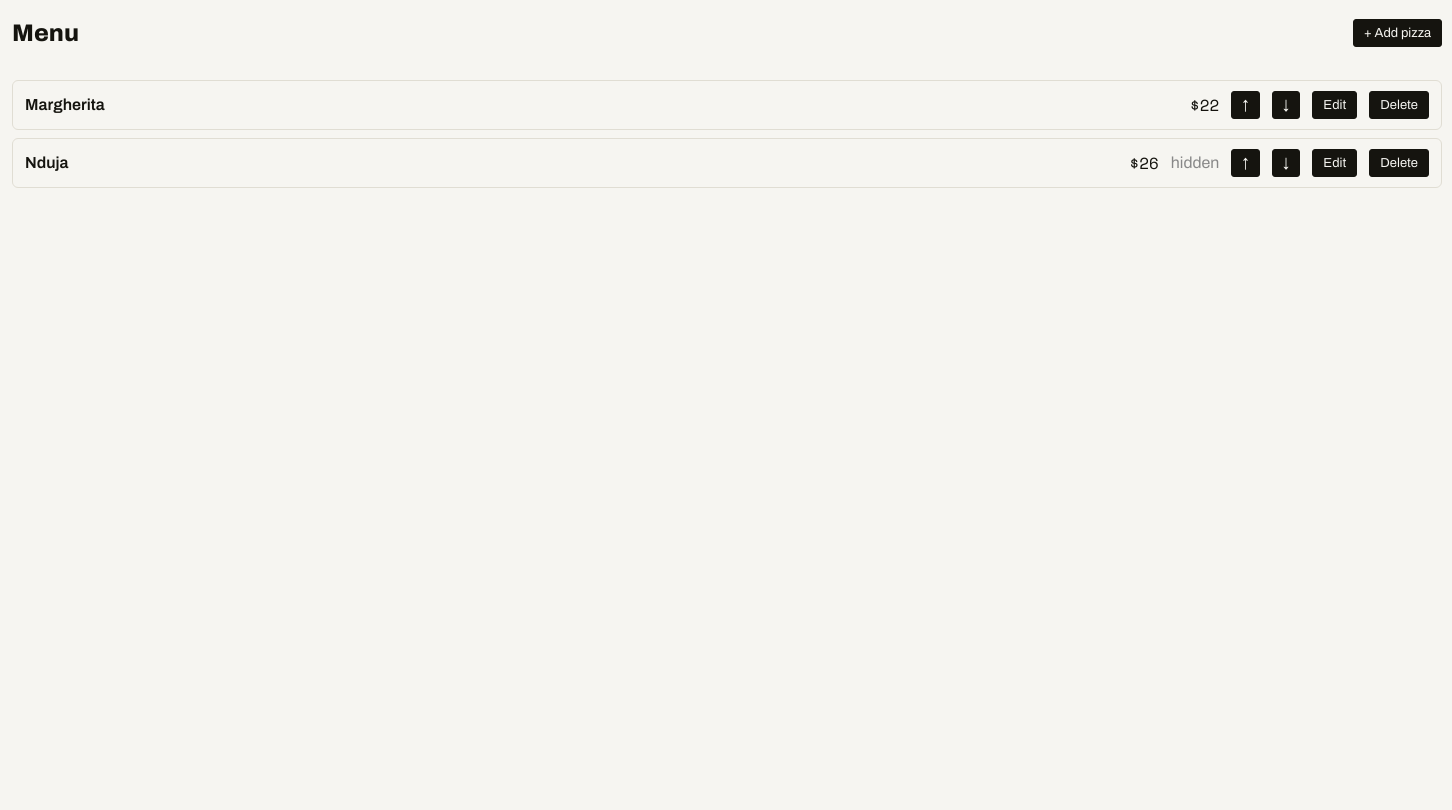
Scenario: MenuManager › opens the add form and creates a new item
Click the button "+ Add pizza" at (1397, 33), box [1353, 19, 1442, 47]
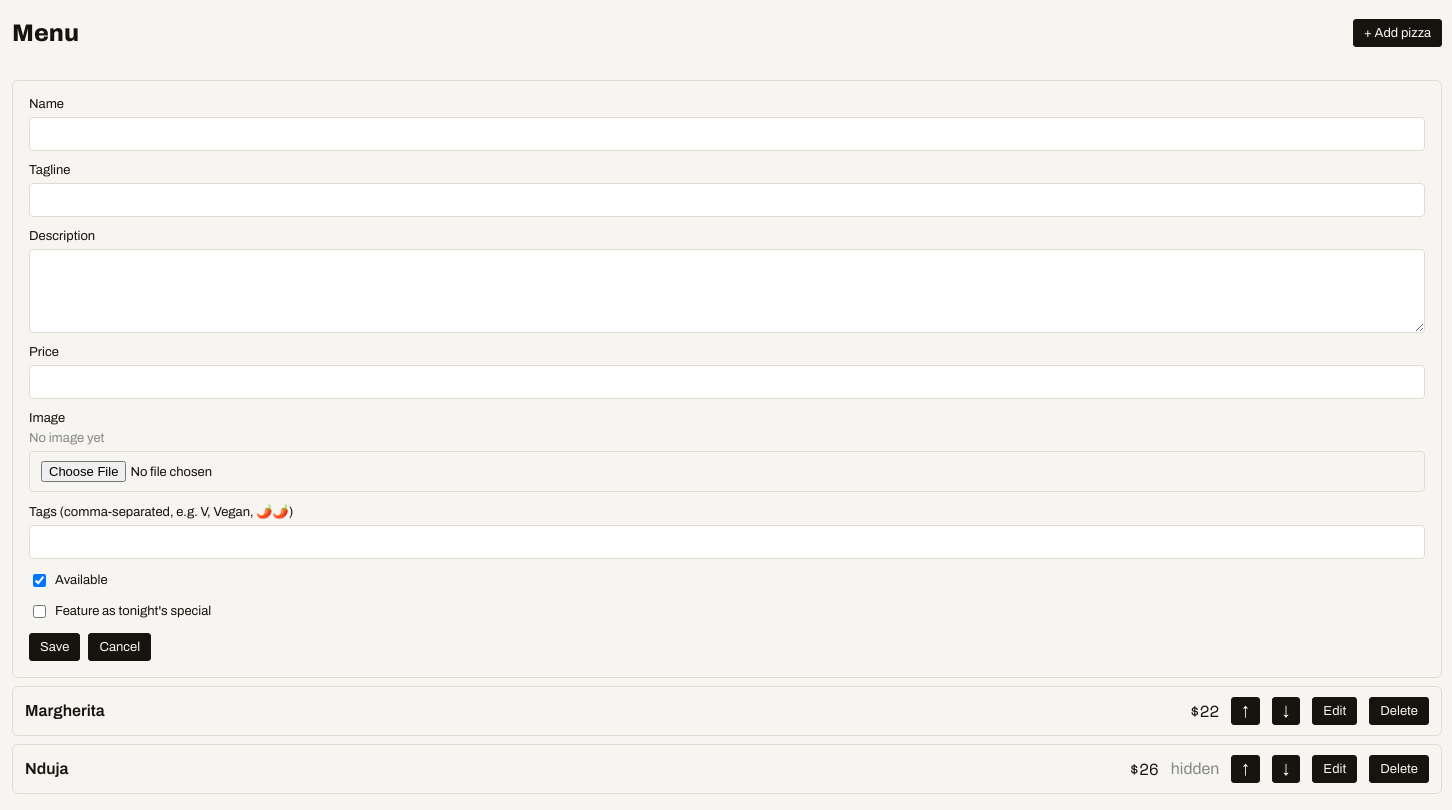
Type "Capricciosa" into the field labelled "Name" at (727, 134), box [29, 117, 1425, 151]
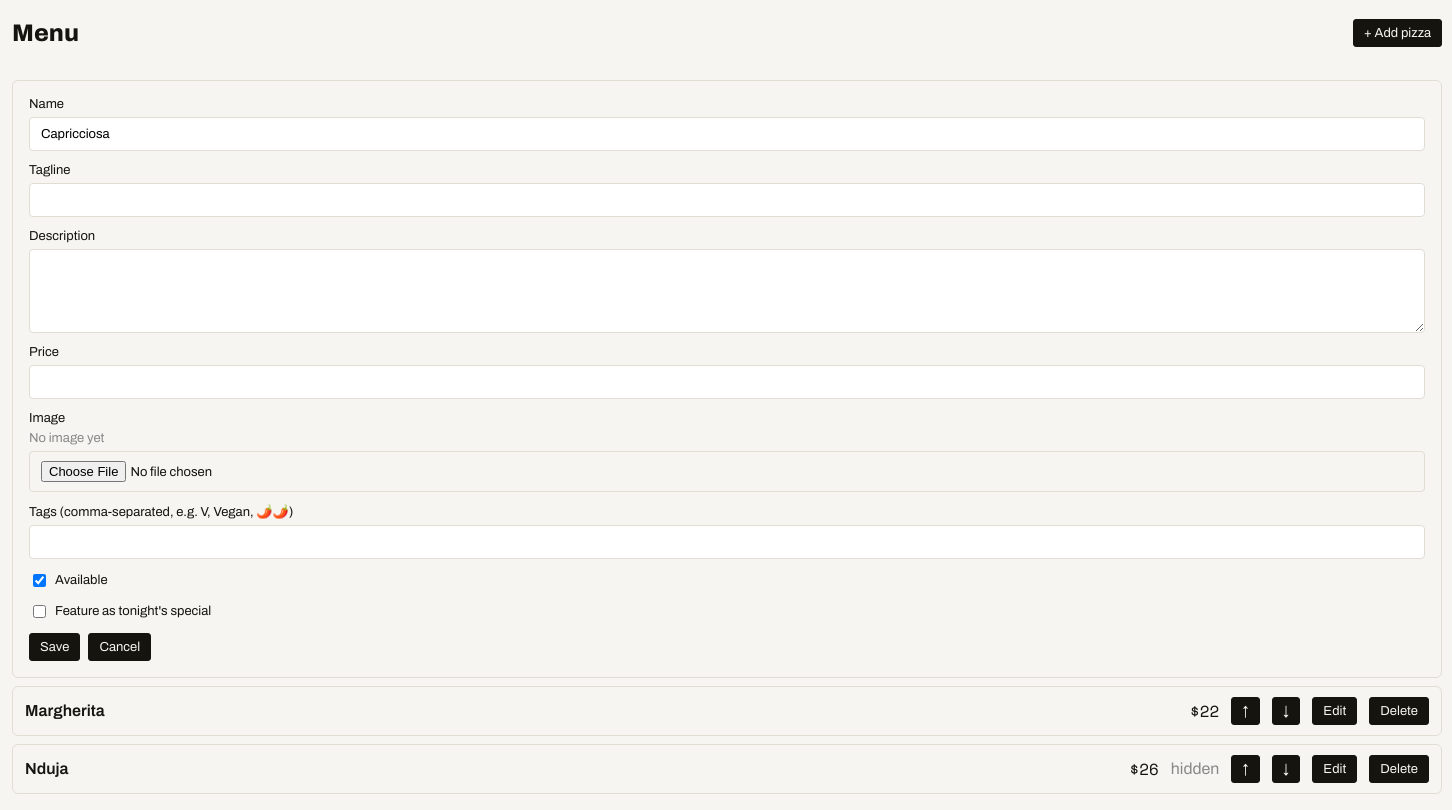
Type "four corners" into the field labelled "Tagline" at (727, 200), box [29, 183, 1425, 217]
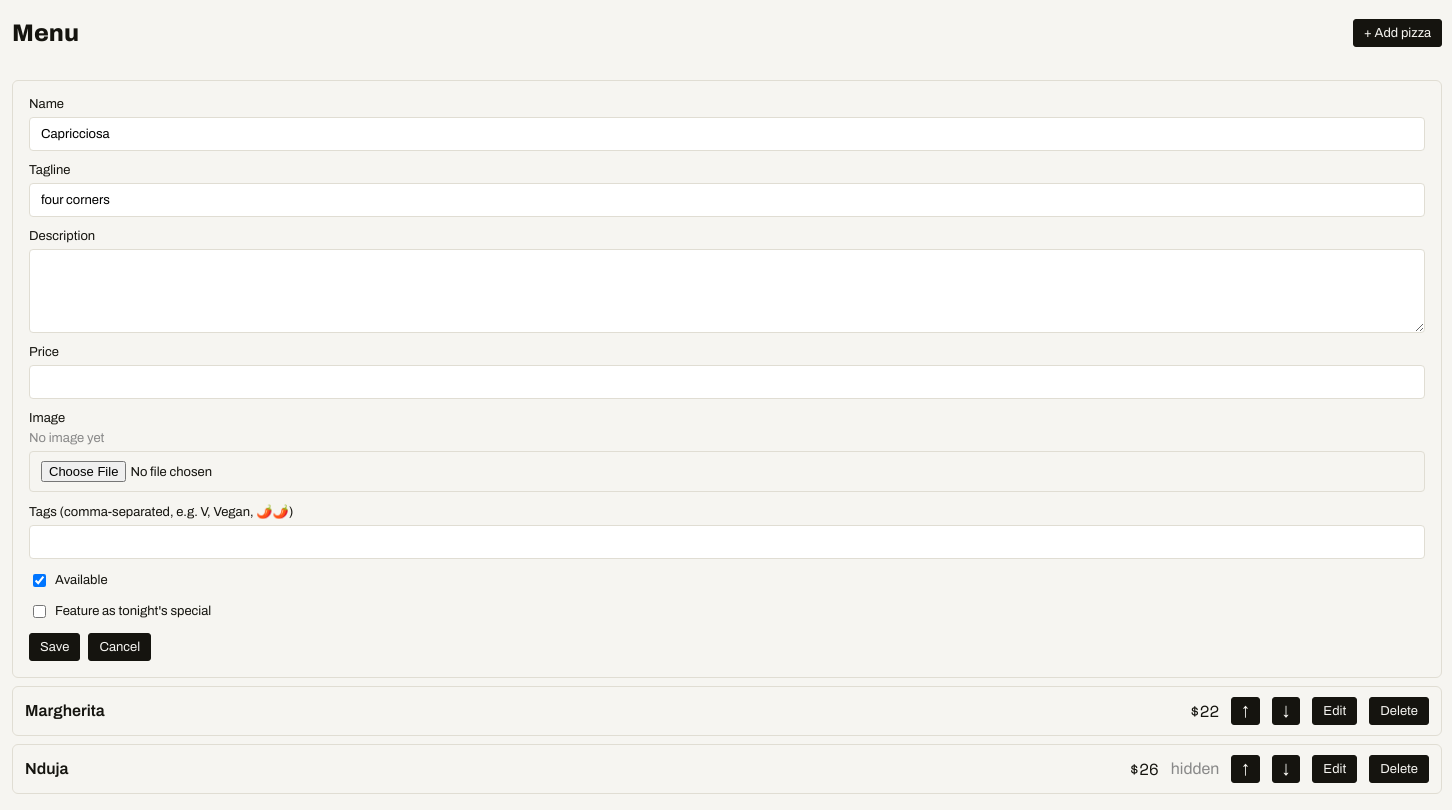
Type "ham etc" into the text box labelled "Description" at (727, 291), box [29, 249, 1425, 333]
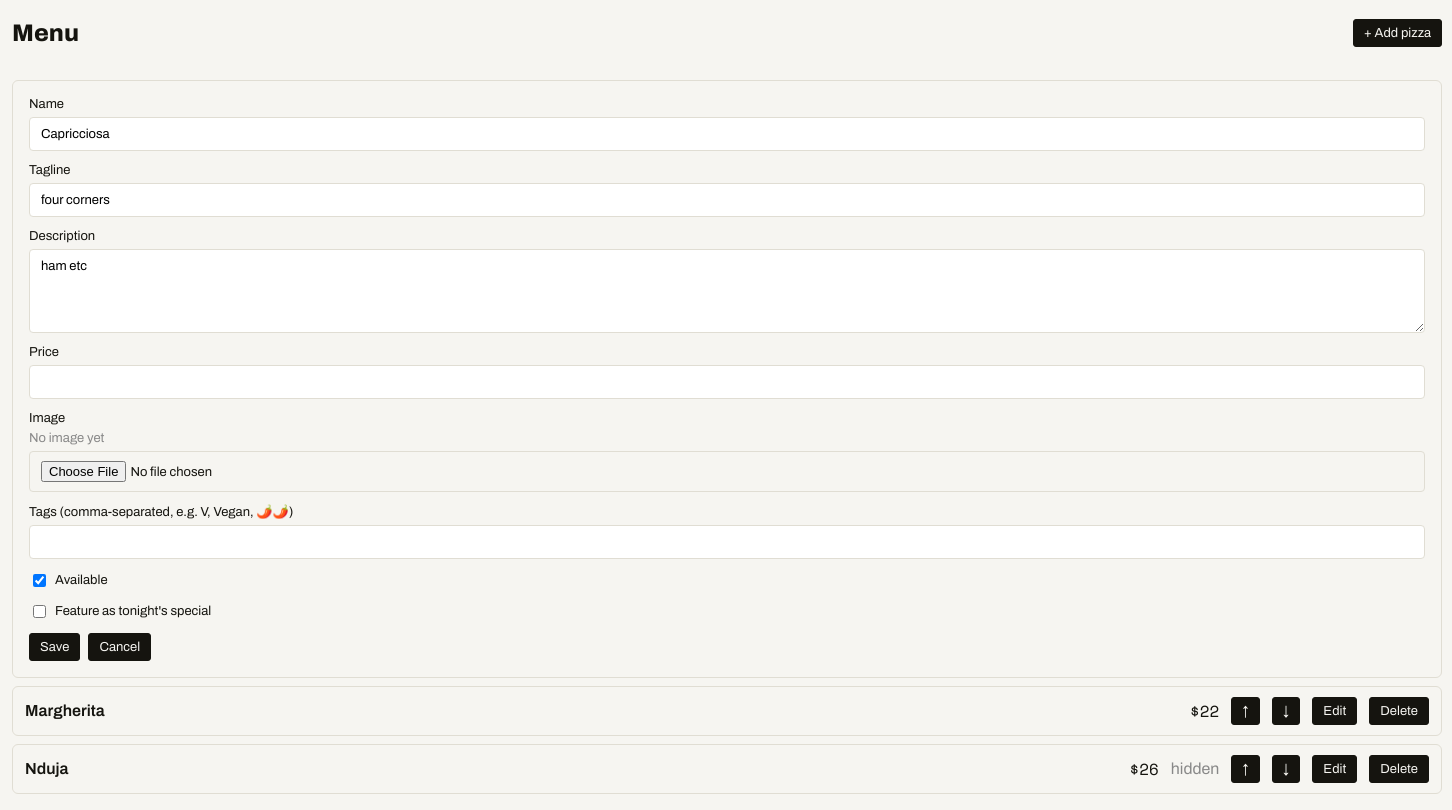
Type "$28" into the field labelled "Price" at (727, 382), box [29, 365, 1425, 399]
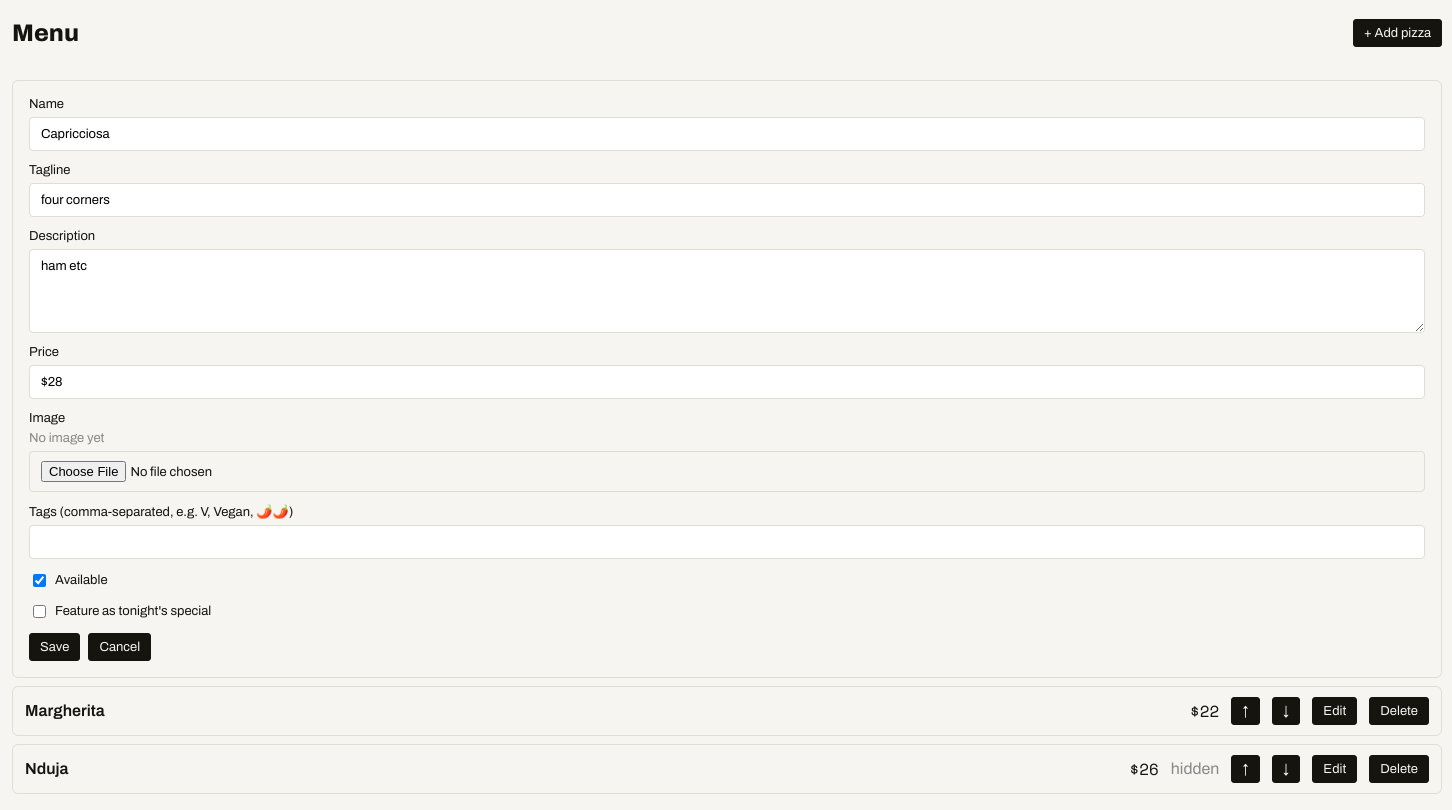
Click the button "Save" at (55, 647), box [29, 633, 80, 661]
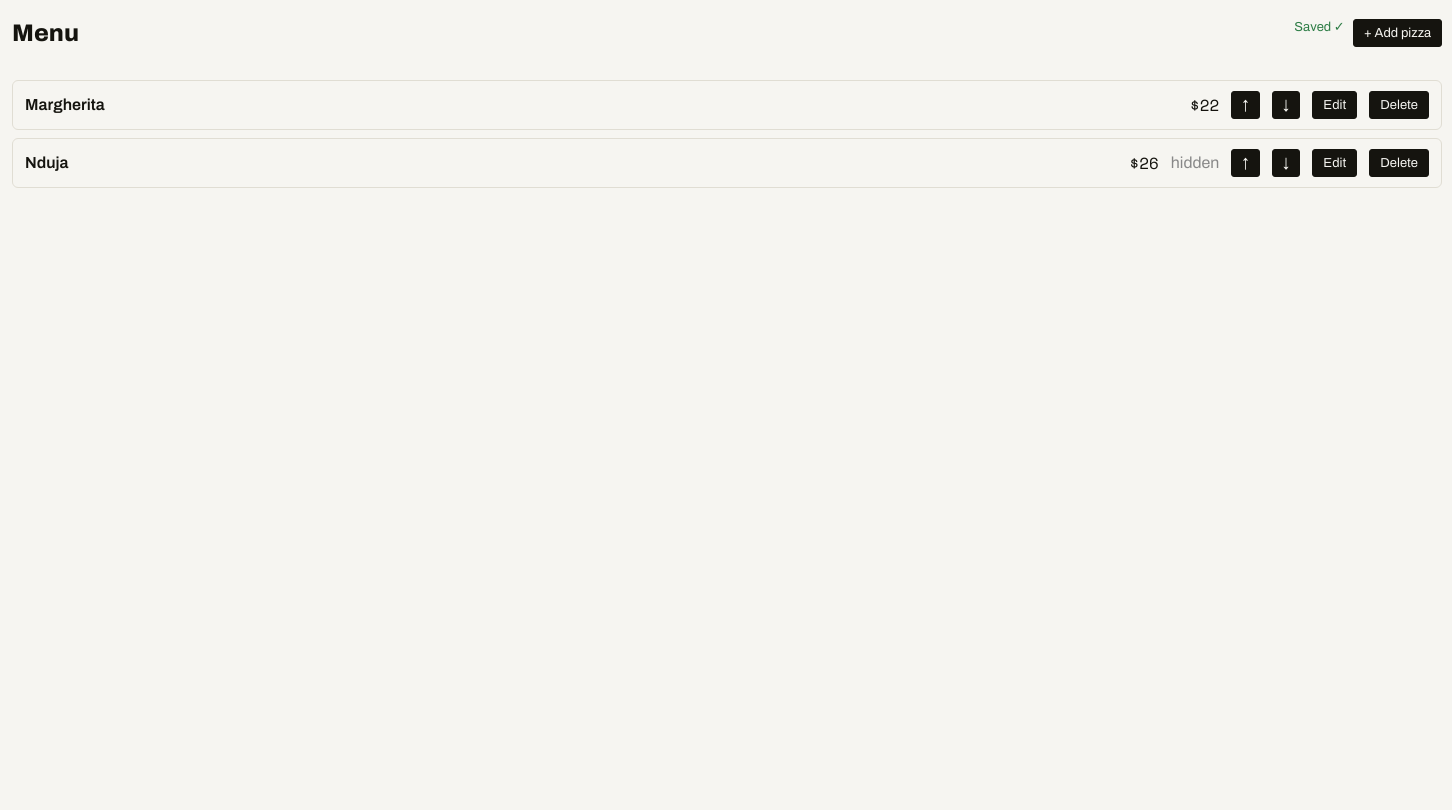
Check: the text "Saved ✓" is shown, box [1294, 20, 1345, 34]
